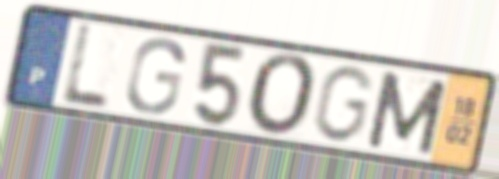5: (189, 41, 248, 131)
G: (308, 62, 378, 146), (123, 35, 189, 117)
L: (58, 21, 112, 112)
M: (362, 68, 451, 159)
O: (245, 51, 322, 141)
